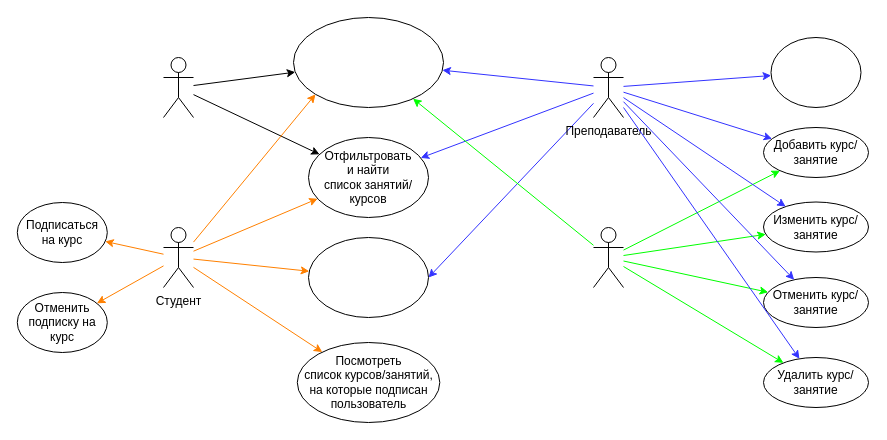
The diagram is 887 pixels wide and 440 high, and some of its shapes have lost their labels. The shapes that lost their labels are listed below. From the top down, each one's centre as x and y in pixels, then its label:
At [368,62]: "Получить справочник областей знаний по темам и разделам".
At [815,72]: "Посчитать зарплату за курс".
At [178,87]: "Неавторизованный пользователь".
At [368,277]: "Получить расписание занятий".
At [608,257]: "Администратор".
